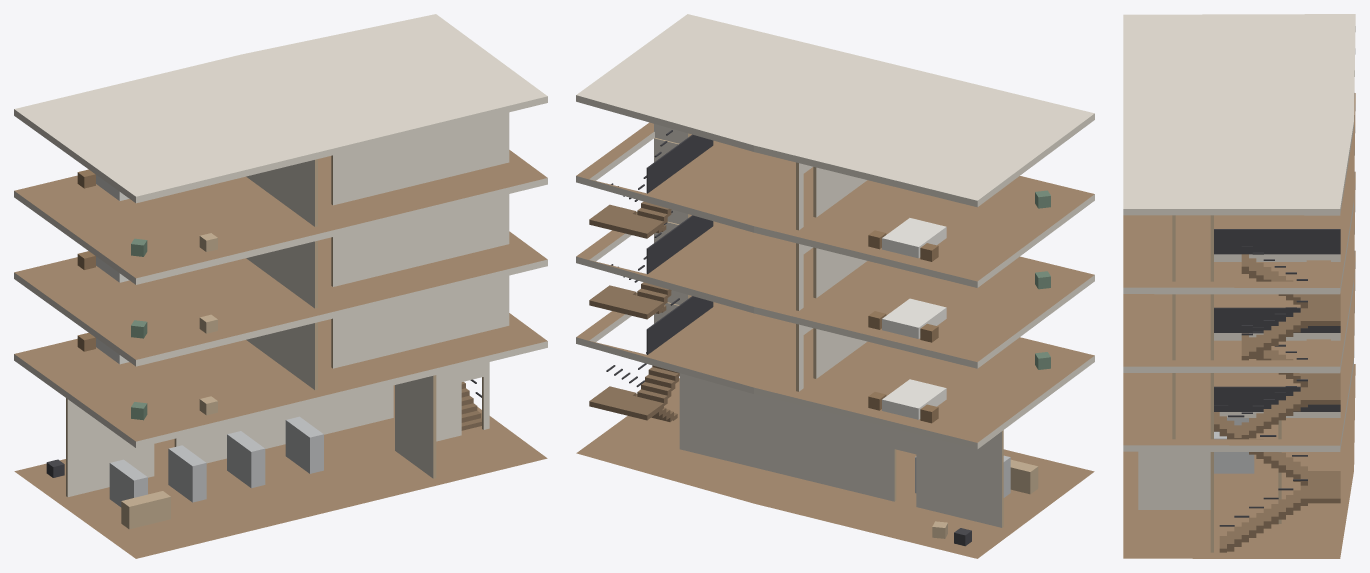
Rendered from interior.glb.
The picture shows the model from 3 angles, left to right: view 1: azimuth 30°, elevation 25°; view 2: azimuth 150°, elevation 25°; view 3: azimuth 270°, elevation 25°; orthographic projection. The views are drawn at different scales.
Parts seen in each view (by area): view 1: slabs, partitions, coarse-s0, coarse-s2, coarse-s1, coarse-s3, stair; view 2: slabs, partitions, stair, coarse-s3, coarse-s2, coarse-s1, coarse-s0; view 3: slabs, stair, partitions, coarse-s0.
Part boxes in pixels (<box>): slabs: <box>14,14,547,558</box>; partitions: <box>66,112,509,497</box>; coarse-s0: <box>46,416,323,529</box>; coarse-s2: <box>77,251,217,338</box>; coarse-s1: <box>77,332,217,420</box>; coarse-s3: <box>77,169,217,256</box>; stair: <box>461,379,481,430</box>; slabs: <box>576,14,1094,558</box>; partitions: <box>654,124,1003,527</box>; stair: <box>589,130,713,421</box>; coarse-s3: <box>868,190,1050,261</box>; coarse-s2: <box>868,271,1050,342</box>; coarse-s1: <box>868,352,1050,423</box>; coarse-s0: <box>915,455,1038,546</box>; slabs: <box>1123,14,1355,558</box>; stair: <box>1214,229,1340,552</box>; partitions: <box>1138,215,1340,552</box>; coarse-s0: <box>1214,418,1254,473</box>.
Bounding box in the file's own units: 16.94 × 14.18 × 8.52.
